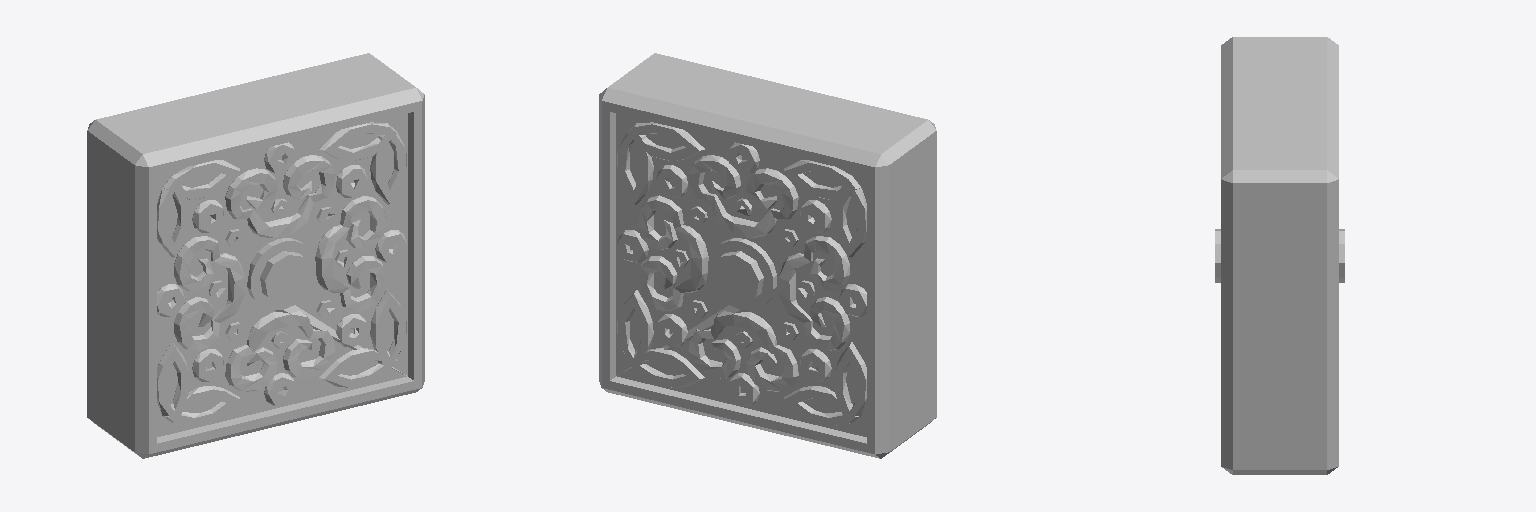
The model's file is Flower Board.obj.
3 views of the same model, side by side, from view 1: azimuth 30°, elevation 25°; view 2: azimuth 150°, elevation 25°; view 3: azimuth 270°, elevation 25° (orthographic).
Visible parts, largest first — view 1: Flower_Board:FlowerPl11 Flower_Board:polySurface6348 Flower_Boar, Flower_Board:FlowerPl11 Flower_Board:polySurface6403 Flower_Boar, Flower_Board:FlowerPl11 Flower_Board:polySurface6388 Flower_Boar, Flower_Board:FlowerPl11 Flower_Board:polySurface6400 Flower_Boar, Flower_Board:FlowerPl11 Flower_Board:polySurface6391 Flower_Boar, Flower_Board:FlowerPl11 Flower_Board:polySurface6369 Flower_Boar, Flower_Board:FlowerPl11 Flower_Board:polySurface6377 Flower_Boar, Flower_Board:FlowerPl11 Flower_Board:polySurface6366 Flower_Boar, Flower_Board:FlowerPl11 Flower_Board:polySurface6370 Flower_Boar, Flower_Board:FlowerPl11 Flower_Board:polySurface6373 Flower_Boar, Flower_Board:FlowerPl11 Flower_Board:polySurface6378 Flower_Boar, Flower_Board:FlowerPl11 Flower_Board:polySurface6365 Flower_Boar (+9 smaller); view 2: Flower_Board:FlowerPl11 Flower_Board:polySurface6348 Flower_Boar, Flower_Board:FlowerPl11 Flower_Board:polySurface6397 Flower_Boar, Flower_Board:FlowerPl11 Flower_Board:polySurface6382 Flower_Boar, Flower_Board:FlowerPl11 Flower_Board:polySurface6394 Flower_Boar, Flower_Board:FlowerPl11 Flower_Board:polySurface6385 Flower_Boar, Flower_Board:FlowerPl11 Flower_Board:polySurface6353 Flower_Boar, Flower_Board:FlowerPl11 Flower_Board:polySurface6361 Flower_Boar, Flower_Board:FlowerPl11 Flower_Board:polySurface6354 Flower_Boar, Flower_Board:FlowerPl11 Flower_Board:polySurface6357 Flower_Boar, Flower_Board:FlowerPl11 Flower_Board:polySurface6350 Flower_Boar, Flower_Board:FlowerPl11 Flower_Board:polySurface6349 Flower_Boar, Flower_Board:FlowerPl11 Flower_Board:polySurface6362 Flower_Boar (+9 smaller); view 3: Flower_Board:FlowerPl11 Flower_Board:polySurface6348 Flower_Boar.
Part boxes in pixels (x1,y1,x2,y2): Flower_Board:FlowerPl11 Flower_Board:polySurface6348 Flower_Boar: (87, 53, 424, 458); Flower_Board:FlowerPl11 Flower_Board:polySurface6403 Flower_Boar: (315, 195, 386, 310); Flower_Board:FlowerPl11 Flower_Board:polySurface6388 Flower_Boar: (225, 155, 335, 237); Flower_Board:FlowerPl11 Flower_Board:polySurface6400 Flower_Boar: (174, 236, 245, 350); Flower_Board:FlowerPl11 Flower_Board:polySurface6391 Flower_Boar: (225, 311, 335, 391); Flower_Board:FlowerPl11 Flower_Board:polySurface6369 Flower_Boar: (319, 348, 396, 387); Flower_Board:FlowerPl11 Flower_Board:polySurface6377 Flower_Boar: (319, 122, 396, 160); Flower_Board:FlowerPl11 Flower_Board:polySurface6366 Flower_Boar: (157, 342, 188, 419); Flower_Board:FlowerPl11 Flower_Board:polySurface6370 Flower_Boar: (370, 289, 406, 364); Flower_Board:FlowerPl11 Flower_Board:polySurface6373 Flower_Boar: (163, 160, 239, 199); Flower_Board:FlowerPl11 Flower_Board:polySurface6378 Flower_Boar: (370, 132, 406, 204); Flower_Board:FlowerPl11 Flower_Board:polySurface6365 Flower_Boar: (163, 386, 239, 425); Flower_Board:FlowerPl11 Flower_Board:polySurface6348 Flower_Boar: (599, 53, 936, 458); Flower_Board:FlowerPl11 Flower_Board:polySurface6397 Flower_Boar: (637, 195, 708, 310); Flower_Board:FlowerPl11 Flower_Board:polySurface6382 Flower_Boar: (688, 155, 798, 237); Flower_Board:FlowerPl11 Flower_Board:polySurface6394 Flower_Boar: (778, 236, 849, 350); Flower_Board:FlowerPl11 Flower_Board:polySurface6385 Flower_Boar: (688, 311, 798, 391); Flower_Board:FlowerPl11 Flower_Board:polySurface6353 Flower_Boar: (627, 348, 704, 387); Flower_Board:FlowerPl11 Flower_Board:polySurface6361 Flower_Boar: (627, 122, 704, 160); Flower_Board:FlowerPl11 Flower_Board:polySurface6354 Flower_Boar: (617, 289, 653, 368); Flower_Board:FlowerPl11 Flower_Board:polySurface6357 Flower_Boar: (784, 160, 860, 199); Flower_Board:FlowerPl11 Flower_Board:polySurface6350 Flower_Boar: (835, 342, 866, 421); Flower_Board:FlowerPl11 Flower_Board:polySurface6349 Flower_Boar: (784, 386, 860, 425); Flower_Board:FlowerPl11 Flower_Board:polySurface6362 Flower_Boar: (617, 128, 653, 204); Flower_Board:FlowerPl11 Flower_Board:polySurface6348 Flower_Boar: (1215, 37, 1344, 474).
Bounding box in the file's own units: 0.8779 × 0.8812 × 0.3427.